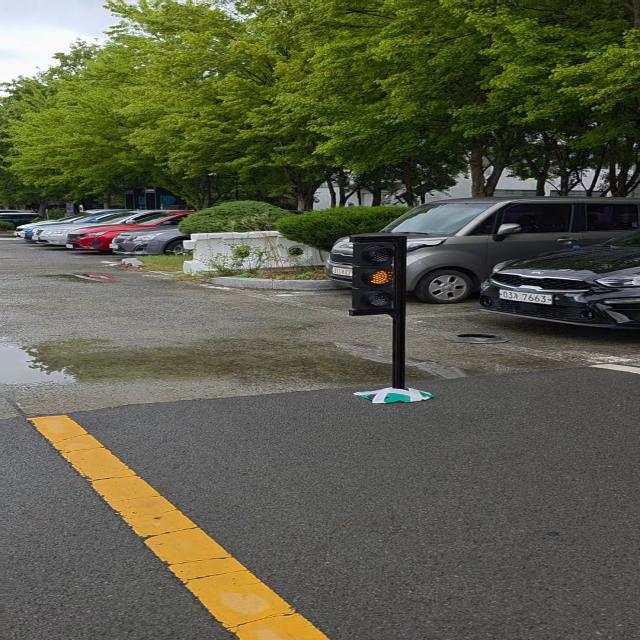yellow: (352, 234, 408, 316)
